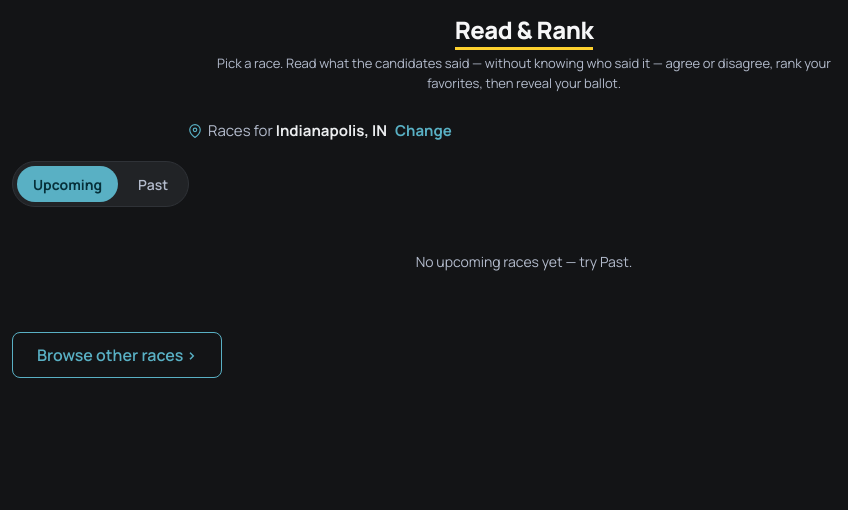
Test: RaceHub arena cards › renders the race as a RaceCard with tier, geography and metadata
Click the button "Past" at (153, 184), box [122, 166, 184, 202]
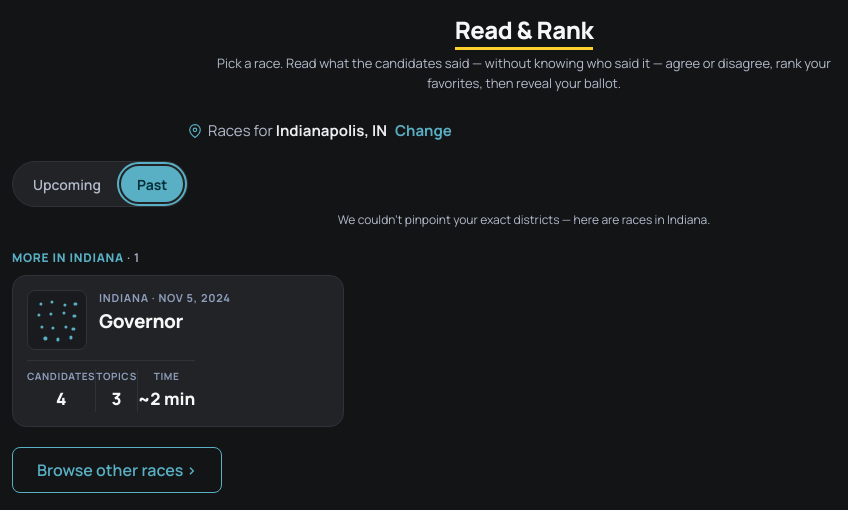
Expected: the button with aria-label "open governor race" shows "Governor", [12, 275, 344, 426]
Expected: the button with aria-label "open governor race" shows "Indiana", [12, 275, 344, 426]
Expected: the button with aria-label "open governor race" shows "Nov 5, 2024", [12, 275, 344, 426]
